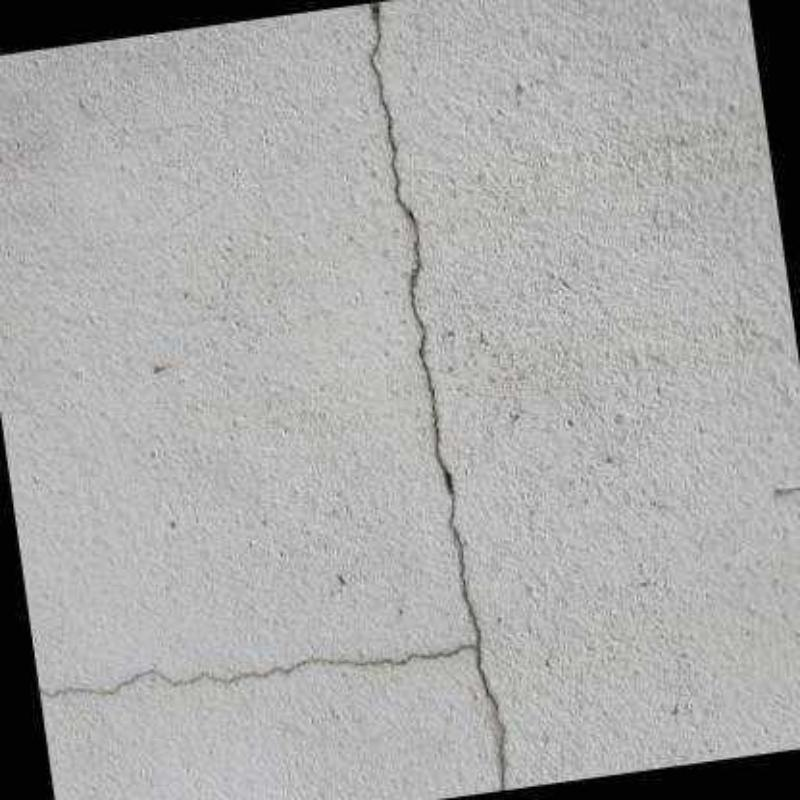crack: (39, 3, 507, 793)
